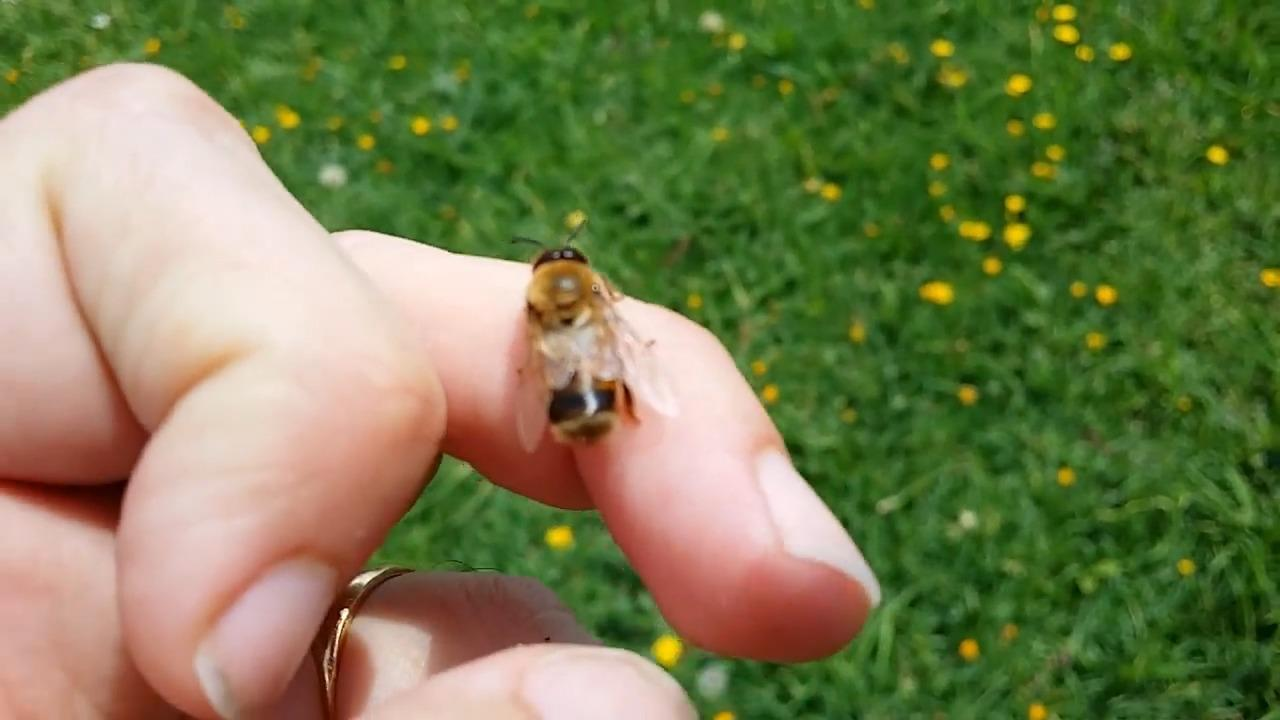bee: (518, 243, 630, 451)
